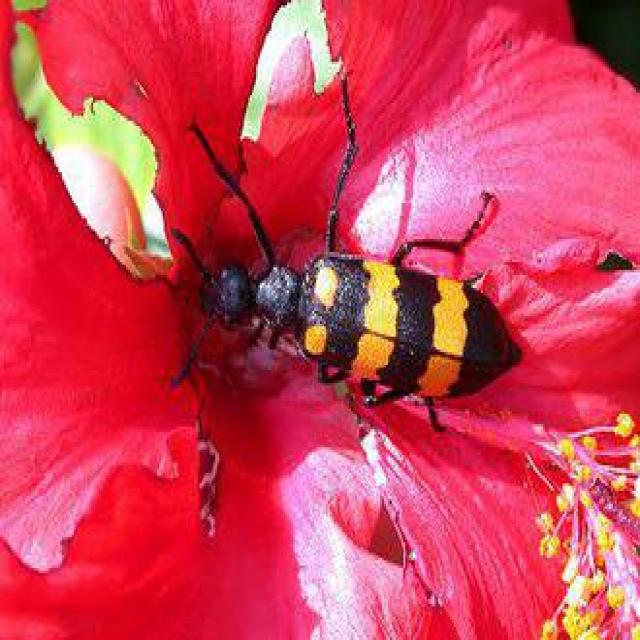BlisterBeetle-Adult-: (148, 66, 525, 454)
